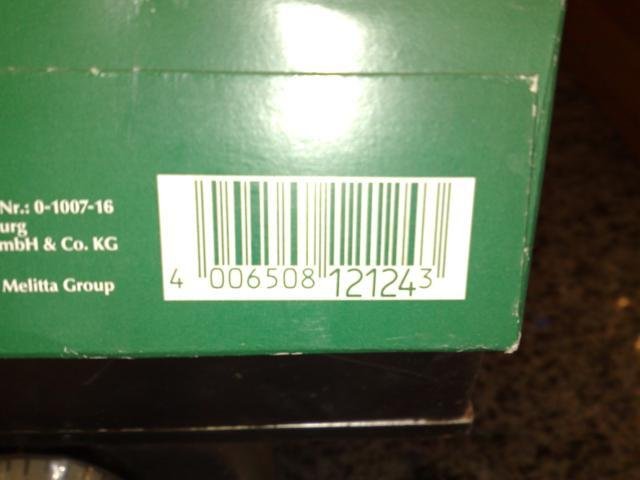Barcode: (156, 174, 476, 302)
